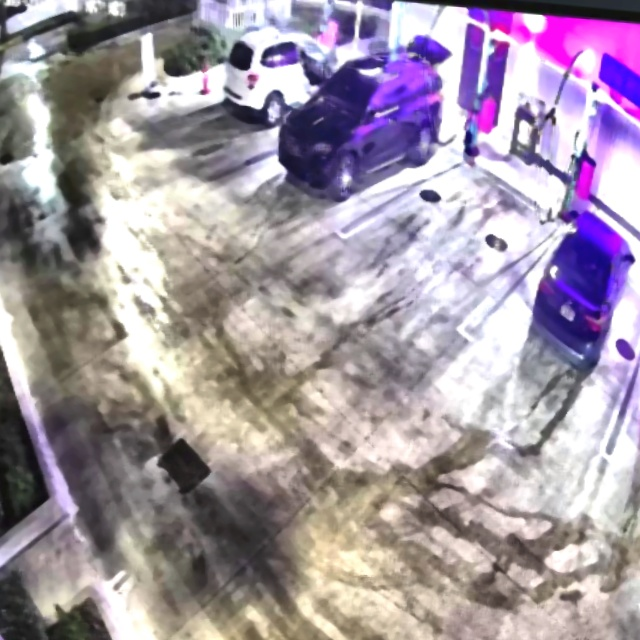Car: (277, 22, 452, 206)
